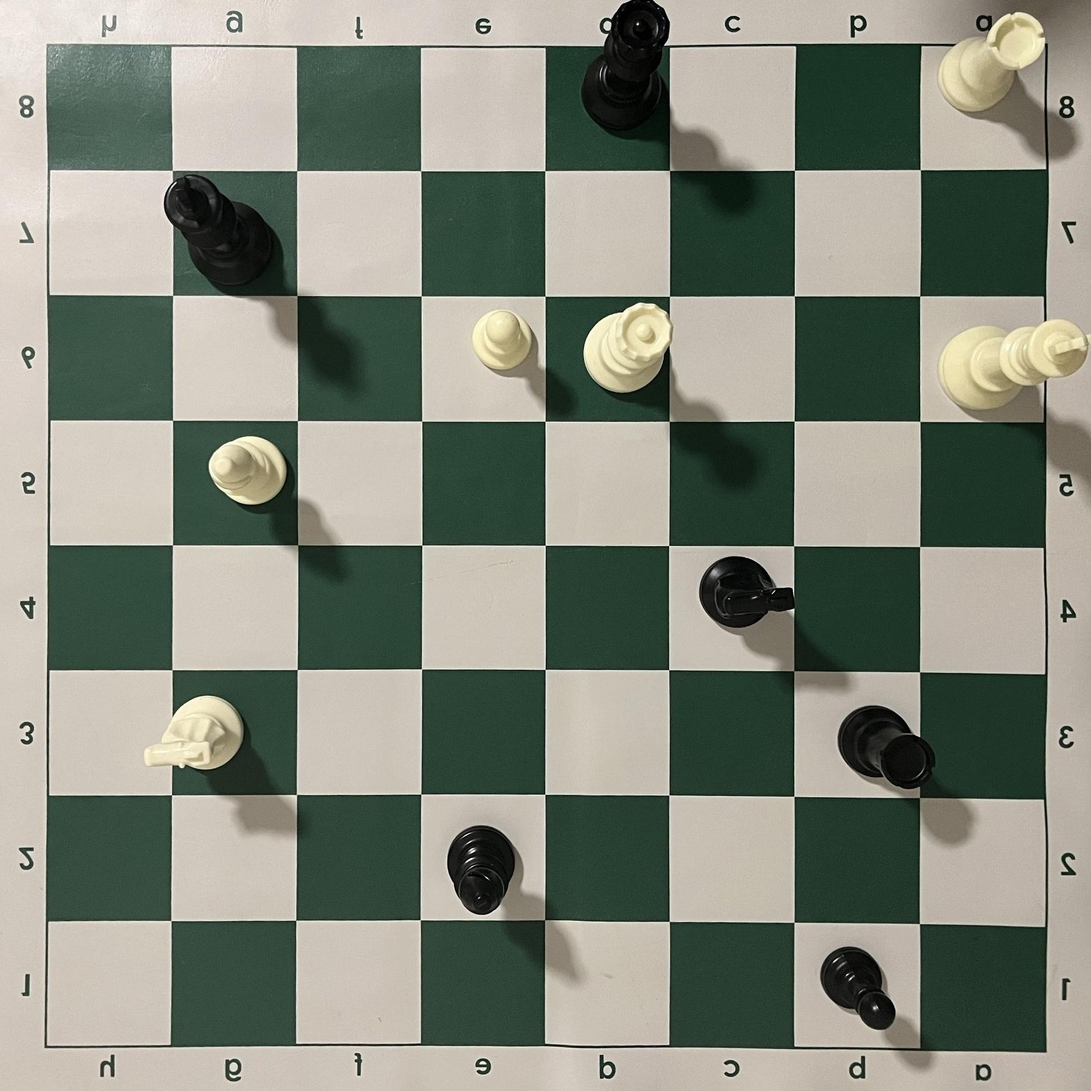black_bishop: (447, 824, 516, 915)
black_king: (164, 174, 275, 287)
black_knight: (698, 555, 796, 628)
black_pawn: (820, 947, 896, 1031)
black_queen: (581, 0, 670, 130)
black_rook: (837, 705, 937, 792)
white_bishop: (208, 436, 287, 506)
white_king: (939, 319, 1091, 412)
white_knight: (143, 694, 245, 772)
white_pawn: (471, 309, 533, 372)
white_queen: (583, 302, 673, 393)
white_rook: (938, 12, 1047, 112)
